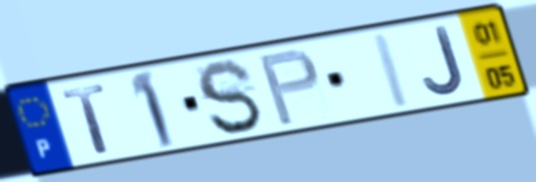1: (127, 69, 179, 150)
I: (368, 29, 415, 113)
J: (420, 23, 468, 98)
P: (255, 46, 322, 129)
S: (193, 57, 266, 138)
T: (58, 80, 115, 157)
